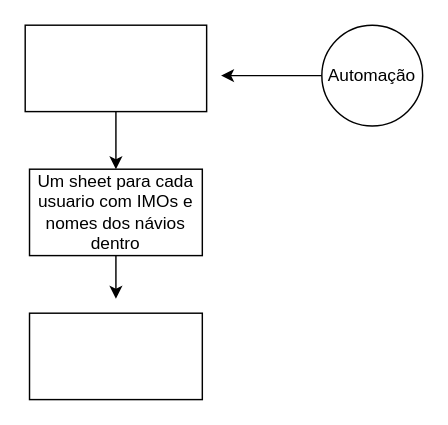
Some shapes in this 448 by 425 pixel diagram are drawn without their labels. Each missing label, with the box of its shape:
Criação de uma planilha: (24, 24, 207, 112)
Ler cada: (28, 312, 202, 400)
